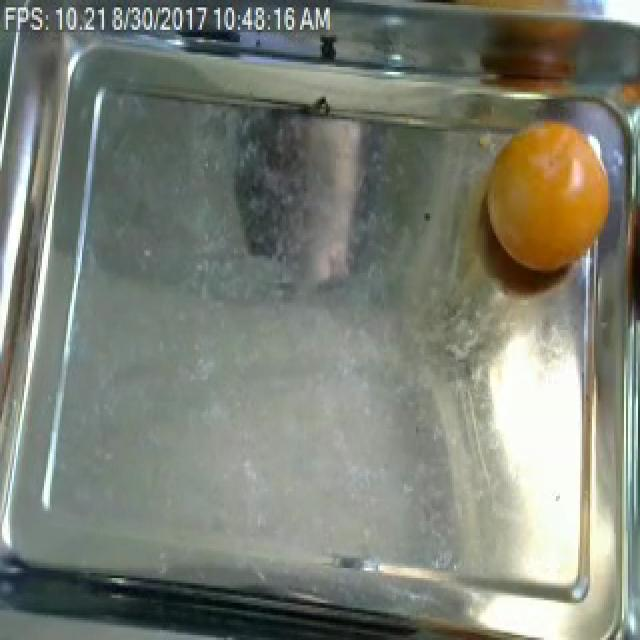Fruit: (480, 109, 618, 280)
